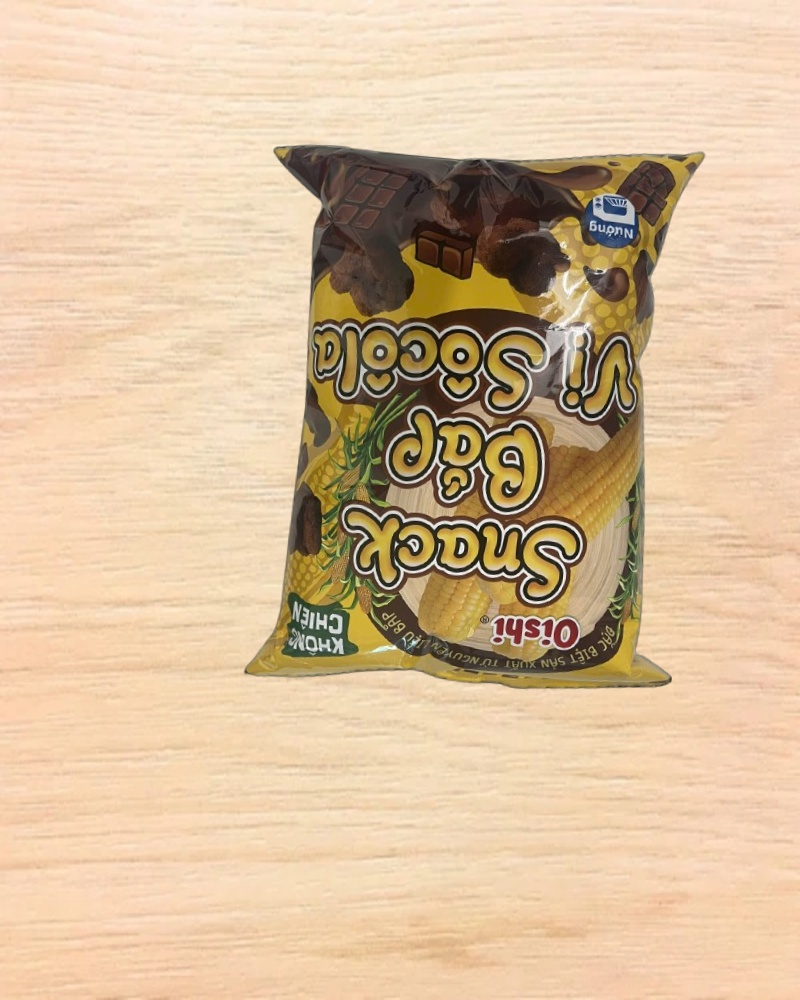Snack socola: (230, 119, 717, 711)
